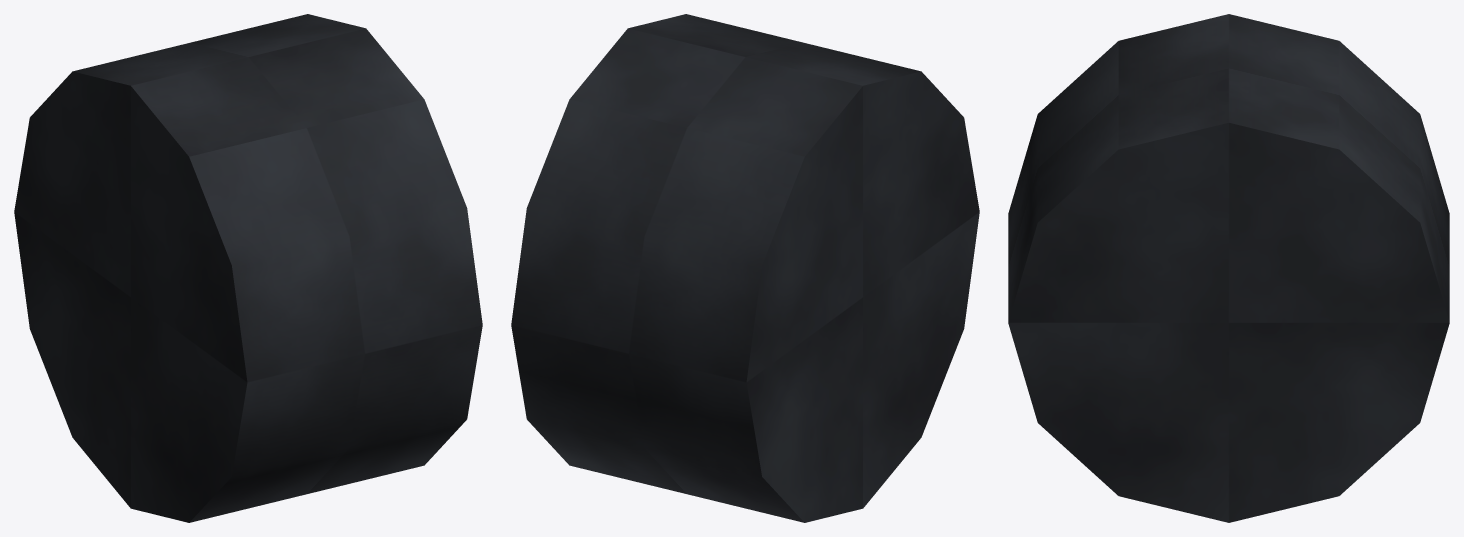
The model's file is Car_Hub_FL.obj.
The picture shows the model from 3 angles, left to right: view 1: azimuth 30°, elevation 25°; view 2: azimuth 150°, elevation 25°; view 3: azimuth 270°, elevation 25°; orthographic projection. The views are drawn at different scales.
Size of the model in its own units: 0.26 by 0.4464 by 0.4464.
1 material, 1 textured.
